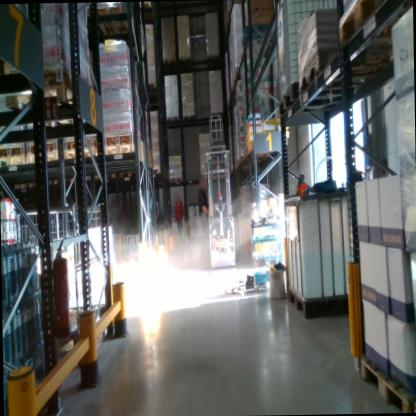pallet: (4, 77, 103, 133), (43, 293, 112, 358), (297, 40, 375, 95), (274, 76, 377, 117), (334, 0, 413, 51), (359, 354, 416, 411), (287, 286, 353, 319), (92, 4, 139, 50), (101, 140, 142, 161), (63, 143, 103, 163), (23, 146, 60, 167), (0, 153, 26, 172), (135, 2, 157, 24), (119, 166, 145, 180), (105, 168, 124, 180), (144, 164, 160, 176), (167, 175, 183, 185), (181, 113, 200, 121), (164, 114, 180, 122)
pallet_truck: (201, 145, 238, 268)
